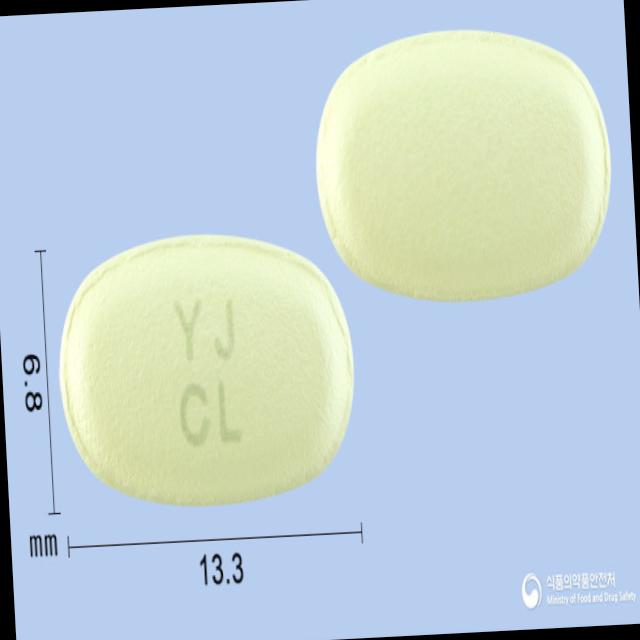Clacid -500mg: (50, 222, 369, 520)
